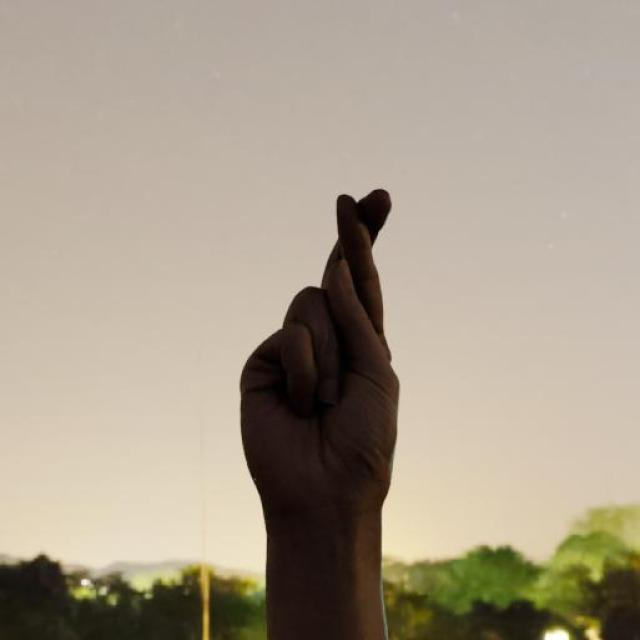R: (234, 183, 402, 529)
